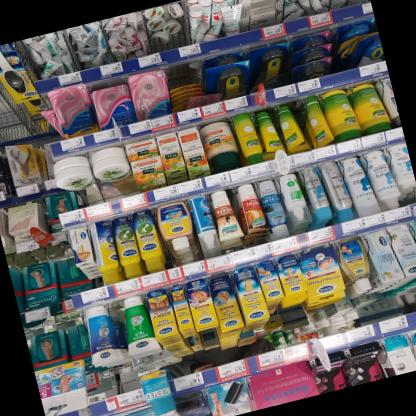empty_space: (0, 93, 19, 147), (165, 61, 197, 88)
